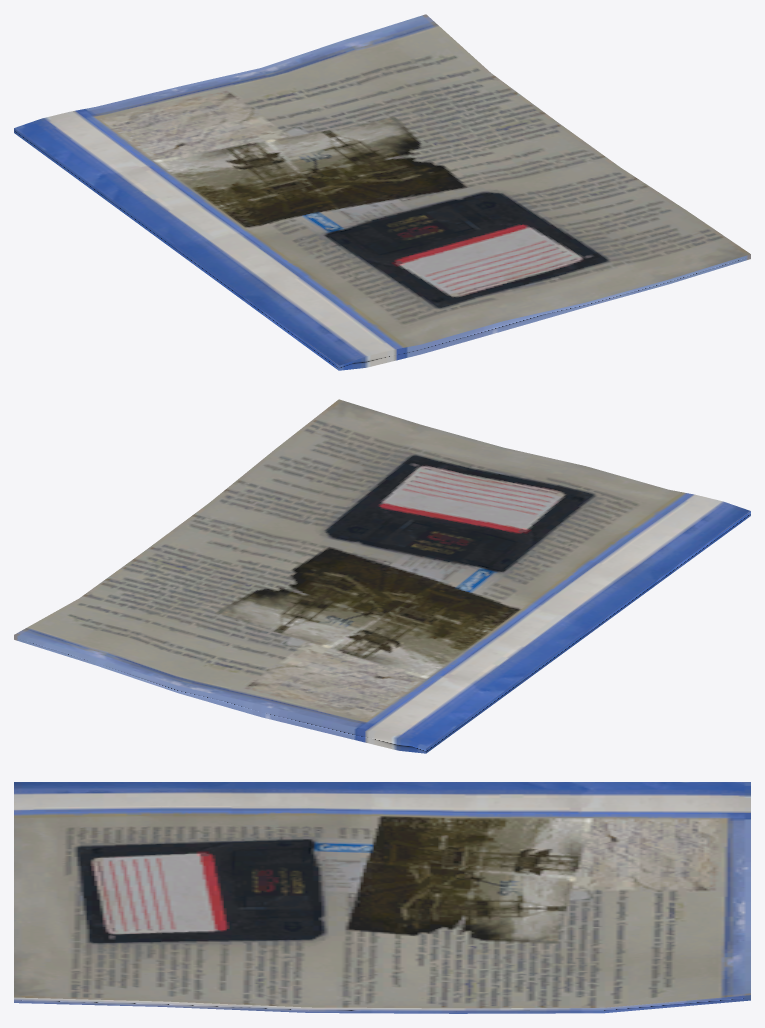
File: item_document_2.fbx
3 views of the same model, one above another, from view 1: azimuth 30°, elevation 25°; view 2: azimuth 150°, elevation 25°; view 3: azimuth 270°, elevation 25° (orthographic). The views are drawn at different scales.
Parts seen in each view (by area): view 1: 0; view 2: 0; view 3: 0.
Part boxes in pixels (x1=…): 0: x1=14, y1=14, x2=750, y2=370; 0: x1=14, y1=399, x2=750, y2=753; 0: x1=14, y1=782, x2=750, y2=1013.
Size of the model in its own units: 0.3514 by 0.0179 by 0.4797.
